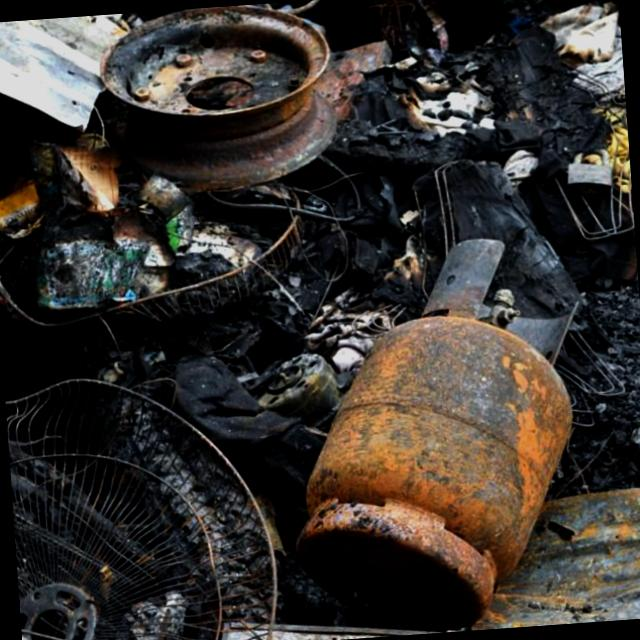Cylinders: (294, 231, 597, 631)
